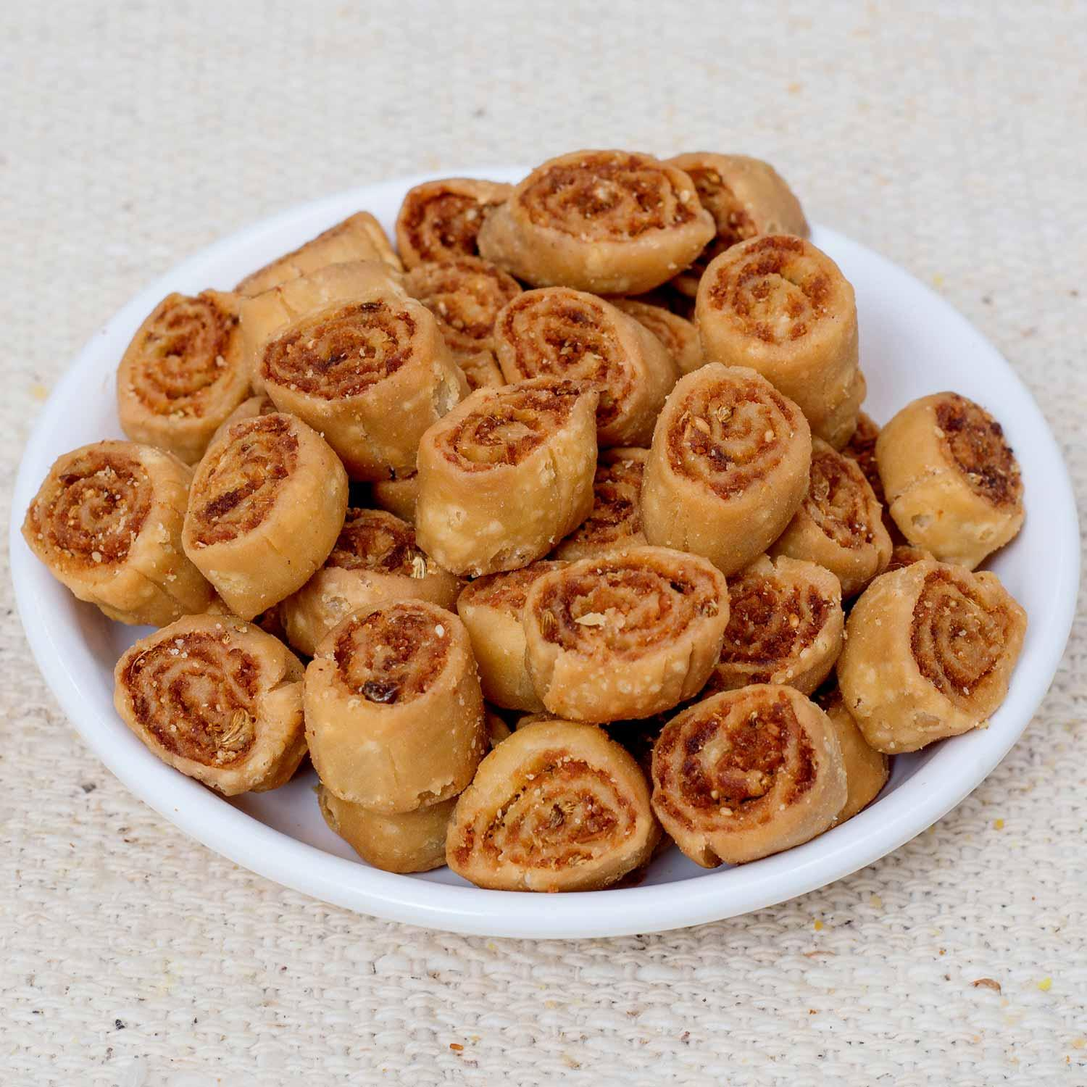bhakarwadi: (11, 154, 1028, 871)
